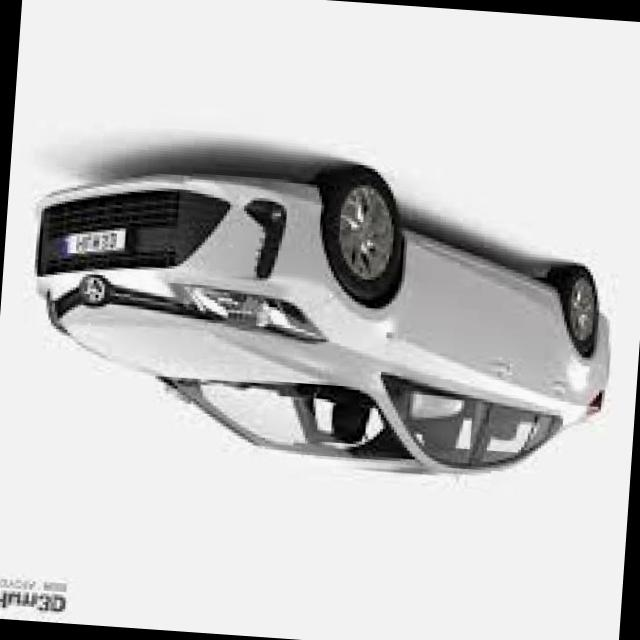ToyotaVios: (20, 142, 622, 490)
